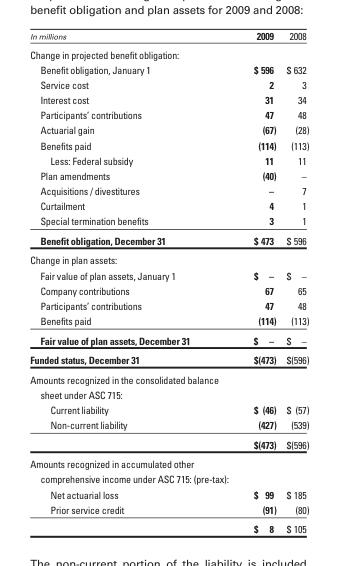table: (29, 28, 308, 534)
table column: (29, 28, 221, 534), (221, 28, 280, 534), (280, 28, 308, 534)
table column header: (29, 28, 308, 44)
table projected row header: (29, 453, 308, 486), (29, 369, 308, 401), (29, 249, 308, 267), (29, 44, 308, 61)
table row: (29, 453, 308, 486), (29, 369, 308, 401), (29, 349, 308, 369), (29, 230, 308, 249), (29, 330, 308, 349), (29, 434, 308, 453), (29, 212, 308, 230), (29, 249, 308, 267), (29, 312, 308, 330), (29, 416, 308, 434), (29, 44, 308, 61), (29, 501, 308, 518), (29, 28, 308, 44), (29, 106, 308, 122), (29, 518, 308, 534), (29, 61, 308, 76), (29, 76, 308, 91), (29, 91, 308, 106), (29, 122, 308, 137), (29, 137, 308, 152), (29, 152, 308, 167), (29, 167, 308, 182), (29, 182, 308, 197), (29, 197, 308, 212), (29, 267, 308, 282), (29, 282, 308, 297), (29, 297, 308, 312), (29, 401, 308, 416), (29, 486, 308, 501)
